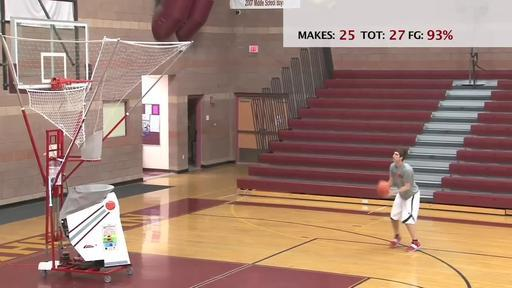ball: (377, 181, 390, 196)
human: (384, 150, 423, 254)
rim: (58, 78, 92, 113)
